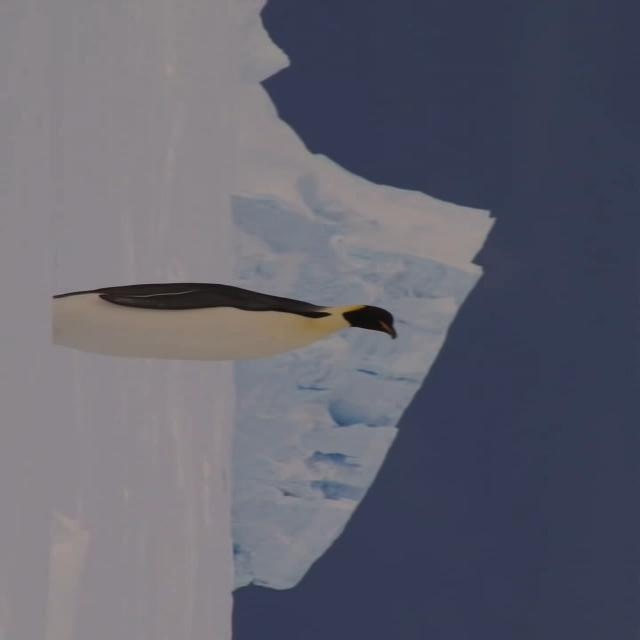penguin: (50, 283, 398, 364)
